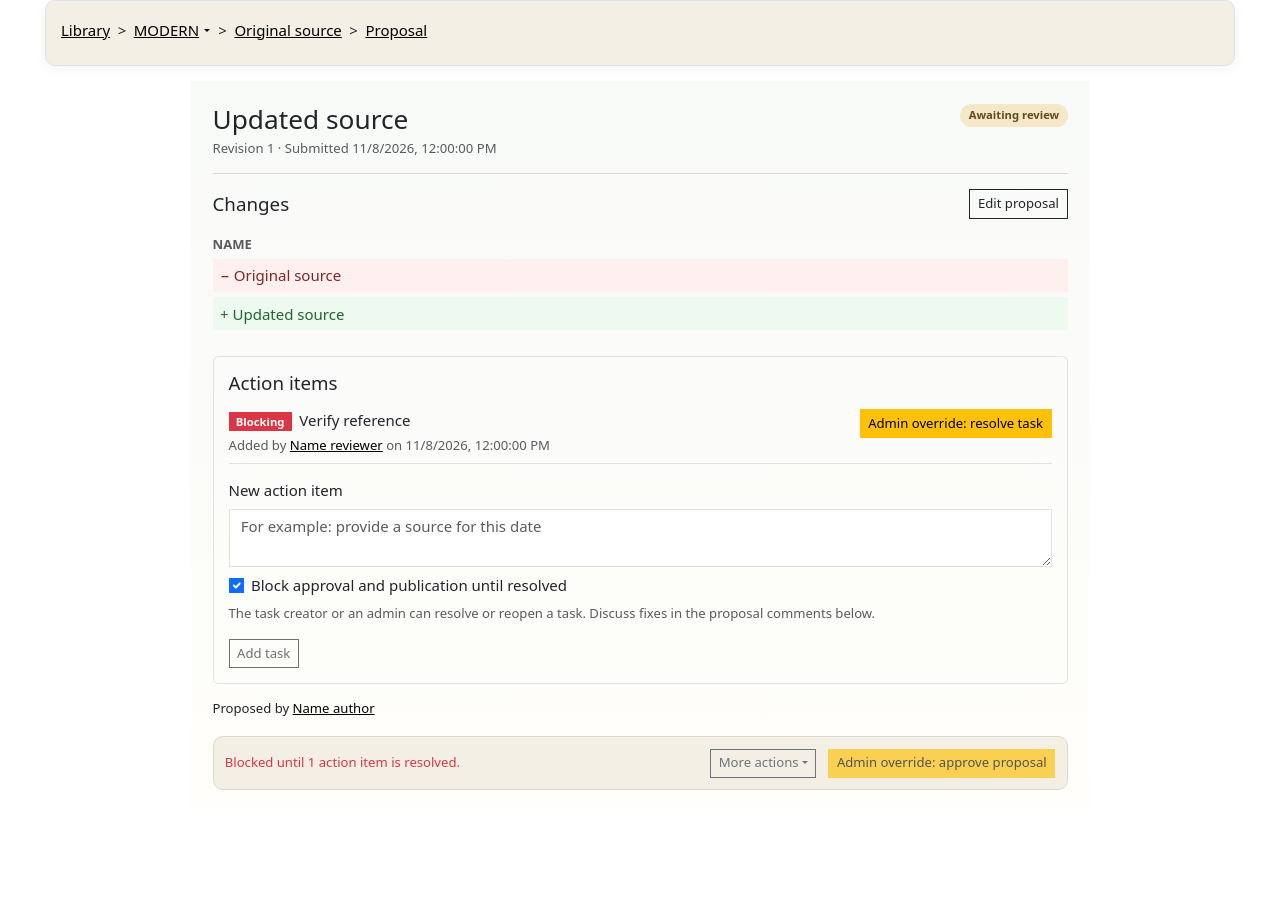
an admin resolving another reviewer's task uses the yellow override action and records a reason
Expected: the button "Admin override: approve proposal" is disabled, top-left (828, 748), bottom-right (1055, 778)
Click the button "Admin override: resolve task" at coordinates (956, 424), box top-left (860, 409), bottom-right (1052, 438)
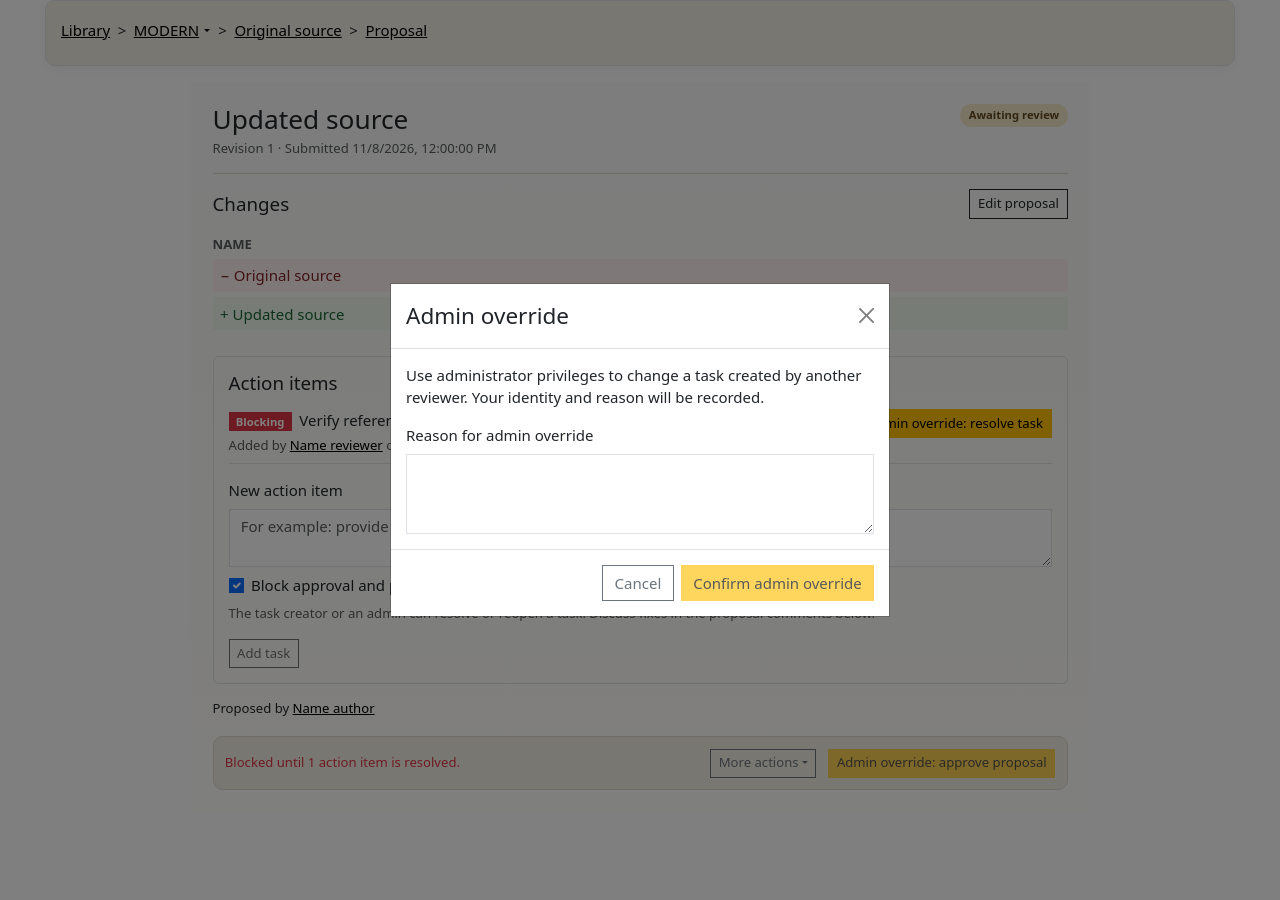
Now the button "Confirm admin override" is disabled, box top-left (681, 565), bottom-right (874, 601)
Type "I verified the source" into the text box labelled "Reason for admin override" at coordinates (640, 494), box top-left (406, 454), bottom-right (874, 534)
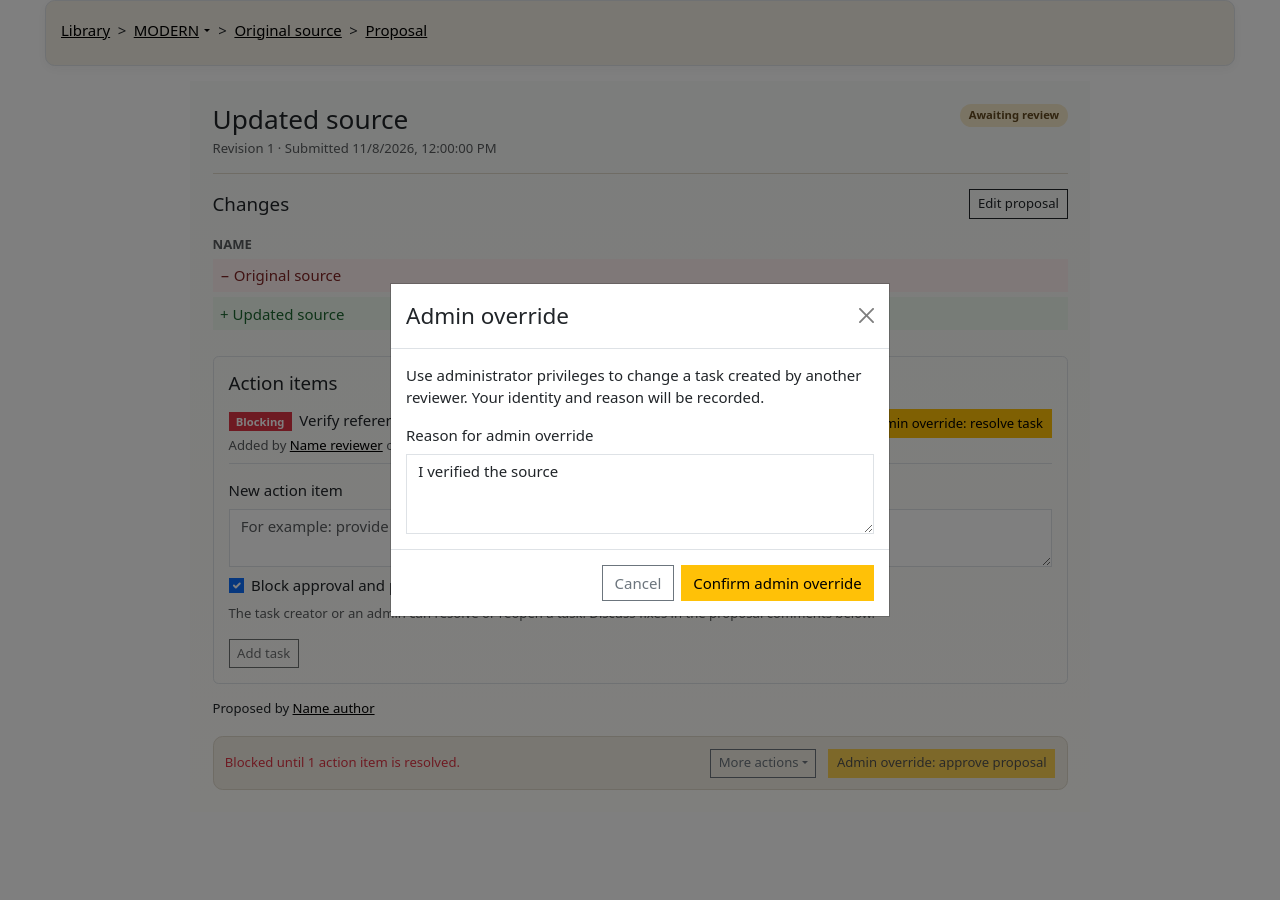
Click the button "Confirm admin override" at coordinates (778, 583), box top-left (681, 565), bottom-right (874, 601)
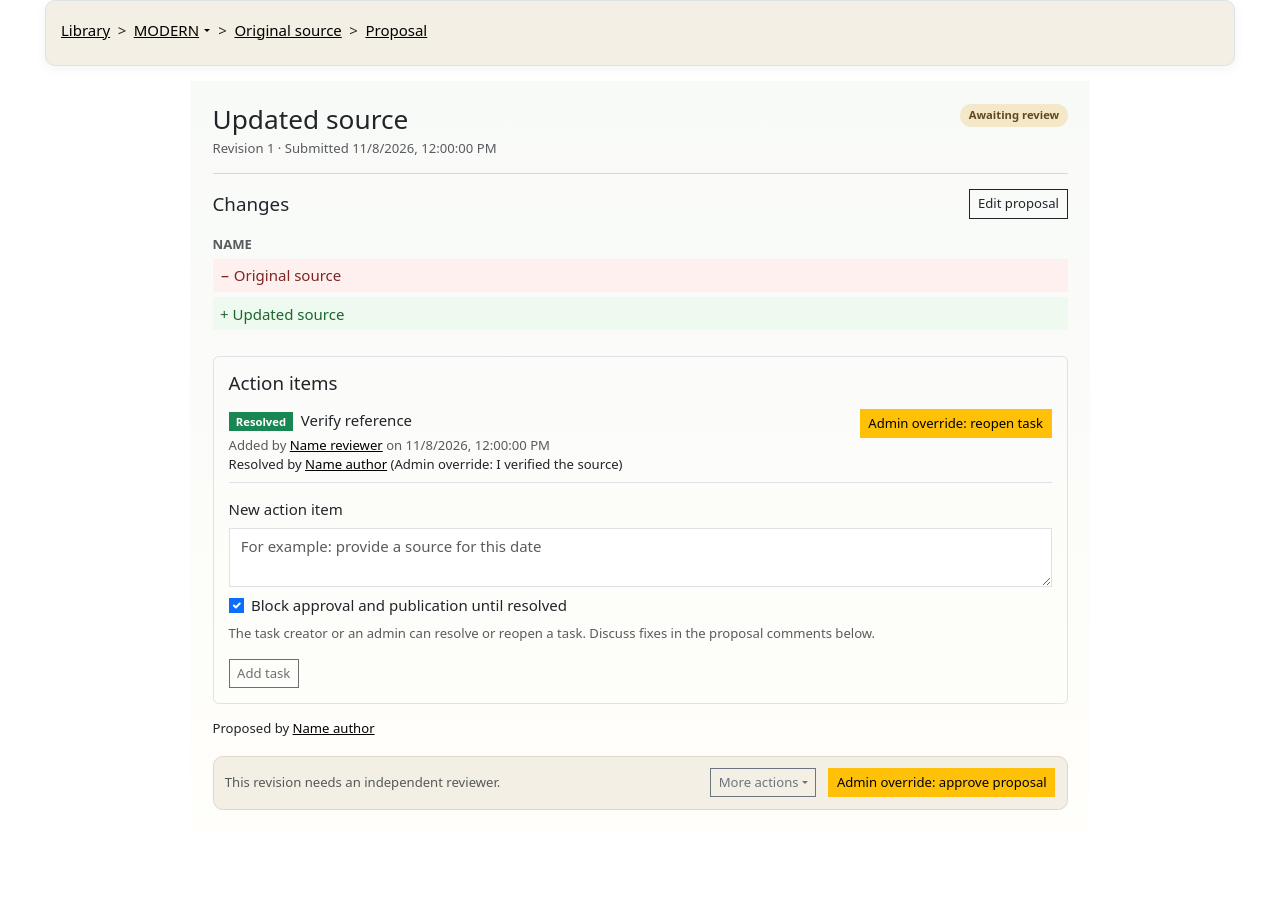
Now the text "Admin override: I verified the source" is shown, box top-left (387, 455), bottom-right (622, 473)
Now the button "Admin override: approve proposal" is enabled, box top-left (828, 768), bottom-right (1055, 797)
